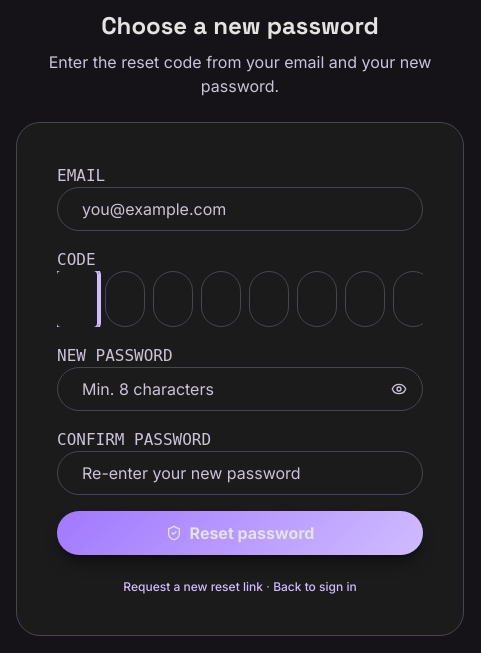
Scenario: ResetPasswordPage › password visibility toggle › toggles password visibility
Click the button named "show password" at x=399, y=389, box [383, 373, 415, 405]
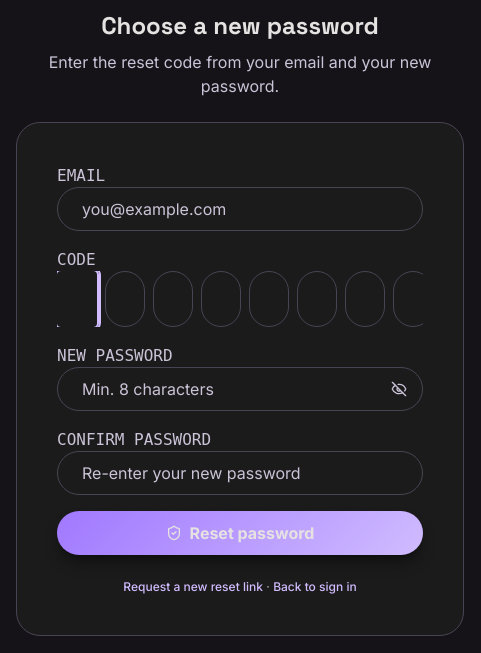
Expected: the button named "hide password" is shown, [383, 373, 415, 405]
